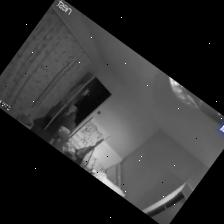person: (47, 112, 74, 144)
